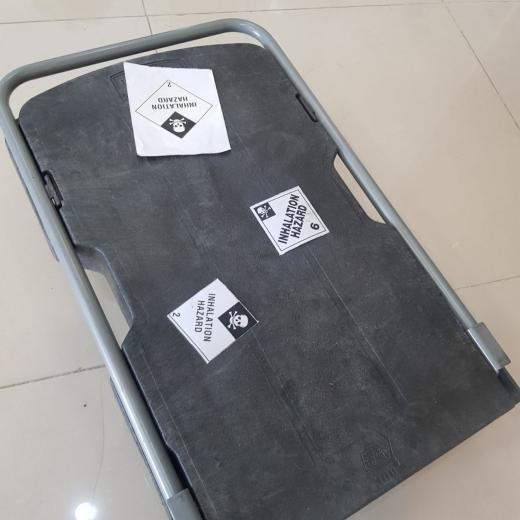poison: (170, 276, 259, 363), (136, 79, 214, 140), (254, 189, 328, 252)
